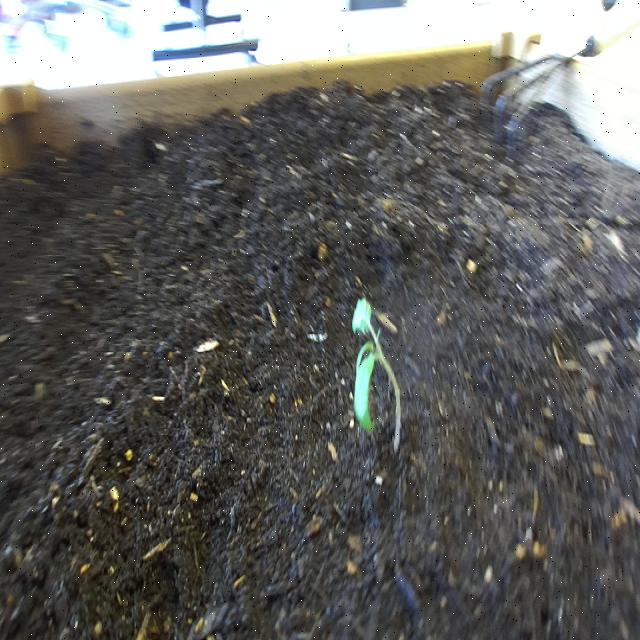Healthy: (346, 290, 408, 468)
